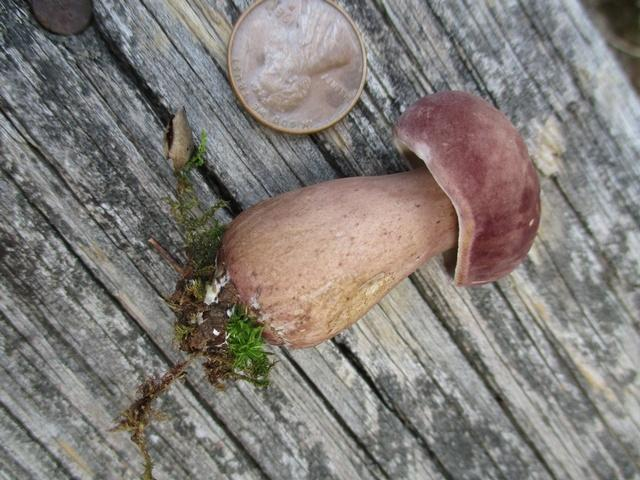poisonous_mushroom: (210, 88, 542, 350)
